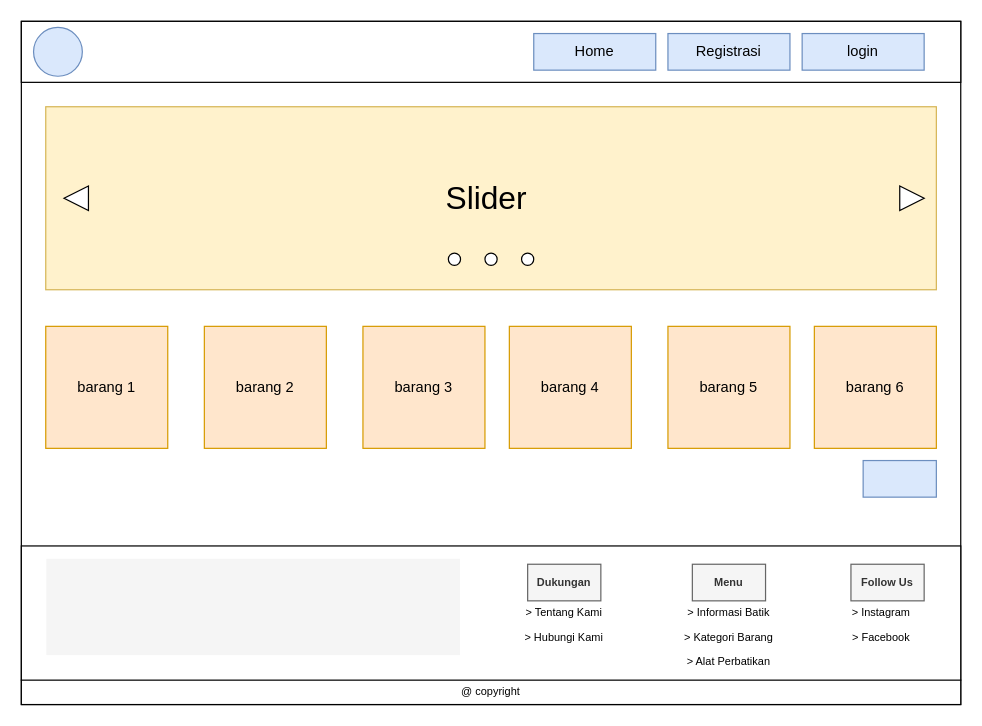
Image size: 982x726. Some labels were removed from this diagram. Here are the shapes that lost their labels. From the top down, the centre of each, then its label:
At (57,51): "logo".
At (899,478): "next".
At (253,606): "OMAH BATIK 78 penjelasan singkat mengenai website ini".
